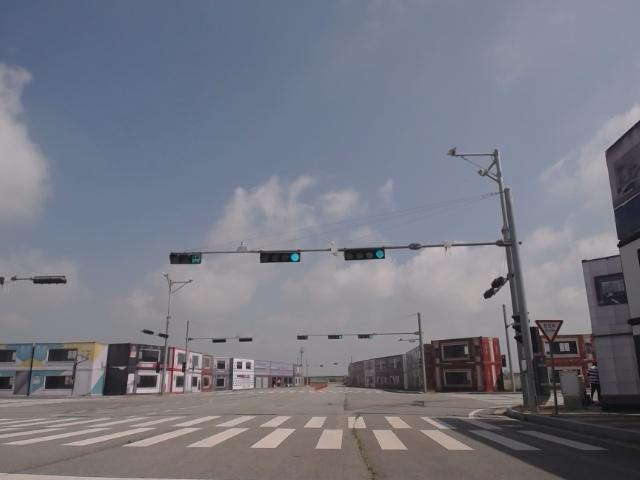straight_green_4: (344, 250, 385, 260), (261, 252, 301, 261)
